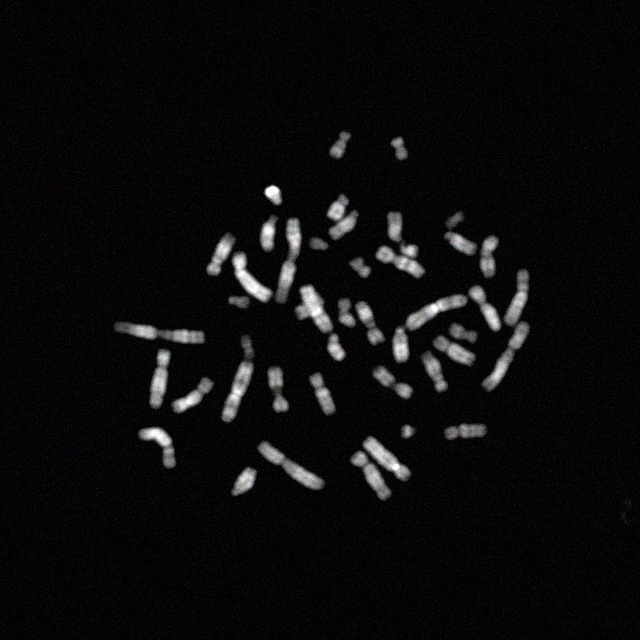chromosome: (482, 322, 530, 392), (258, 442, 324, 490), (405, 294, 469, 330), (276, 218, 302, 304), (363, 436, 411, 480), (114, 322, 206, 344), (351, 452, 392, 501), (232, 252, 272, 302), (222, 362, 254, 423), (138, 426, 176, 469), (299, 284, 333, 332), (376, 245, 424, 278), (172, 378, 214, 414), (505, 270, 531, 326), (469, 286, 501, 330), (433, 334, 475, 366), (356, 301, 386, 344), (150, 349, 170, 408), (208, 234, 236, 276), (308, 372, 336, 413), (422, 352, 448, 393), (268, 368, 290, 412), (480, 235, 500, 279), (328, 212, 359, 240), (442, 232, 478, 256), (231, 466, 257, 498), (446, 423, 486, 443), (260, 215, 280, 253), (296, 295, 326, 319), (392, 328, 410, 364), (326, 194, 349, 222), (449, 323, 478, 343), (326, 334, 346, 362), (330, 132, 350, 158), (338, 300, 357, 326), (350, 257, 372, 279), (388, 212, 404, 242), (371, 366, 395, 386), (240, 334, 256, 361), (390, 136, 408, 160), (265, 185, 283, 207), (227, 294, 250, 310), (393, 382, 415, 398), (445, 212, 465, 228), (398, 242, 418, 258), (311, 236, 327, 252), (401, 425, 415, 439)
